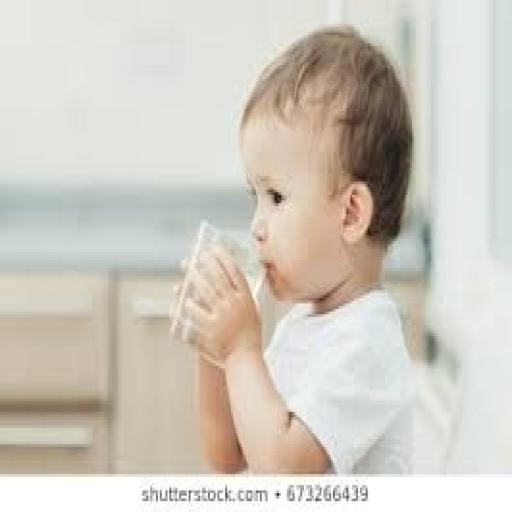drinking: (167, 216, 231, 346)
